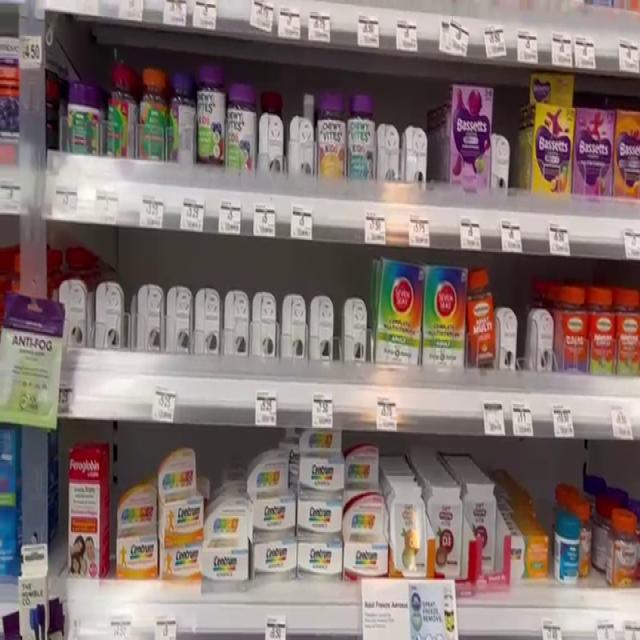Other: (0, 293, 60, 427), (61, 446, 110, 583), (416, 266, 474, 379), (372, 252, 425, 375), (447, 77, 492, 195), (194, 499, 255, 583), (530, 101, 577, 208), (246, 457, 300, 542), (568, 103, 614, 200), (113, 493, 162, 583), (343, 442, 385, 545), (386, 475, 429, 574), (457, 475, 500, 574), (460, 259, 498, 368), (158, 452, 206, 535), (311, 89, 351, 188), (428, 473, 464, 583), (223, 74, 259, 181), (195, 57, 230, 167), (136, 62, 171, 170), (105, 62, 143, 161), (344, 94, 381, 190), (68, 79, 108, 167), (297, 427, 345, 500), (246, 529, 302, 588), (586, 276, 620, 372), (500, 524, 552, 583), (167, 68, 198, 165), (556, 279, 589, 370), (609, 104, 640, 199), (552, 515, 586, 587), (606, 510, 638, 585), (342, 536, 393, 583), (153, 534, 204, 579), (298, 494, 348, 539), (620, 284, 640, 385), (300, 543, 348, 583), (569, 499, 596, 570)
